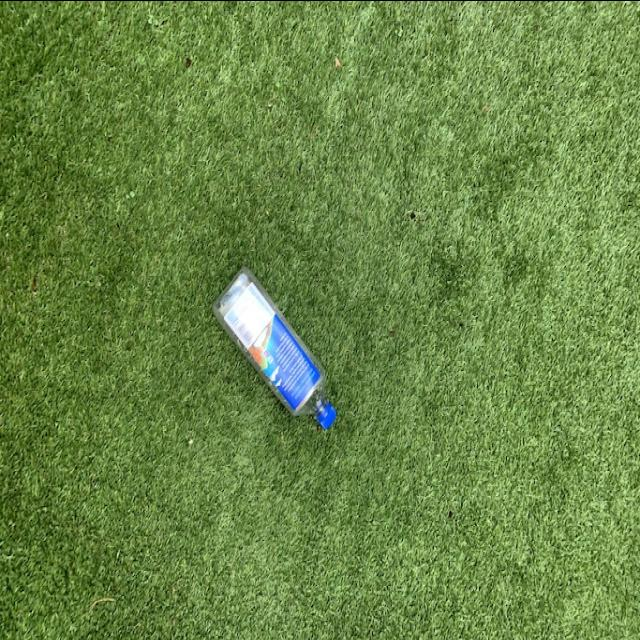litter: (214, 266, 340, 430)
